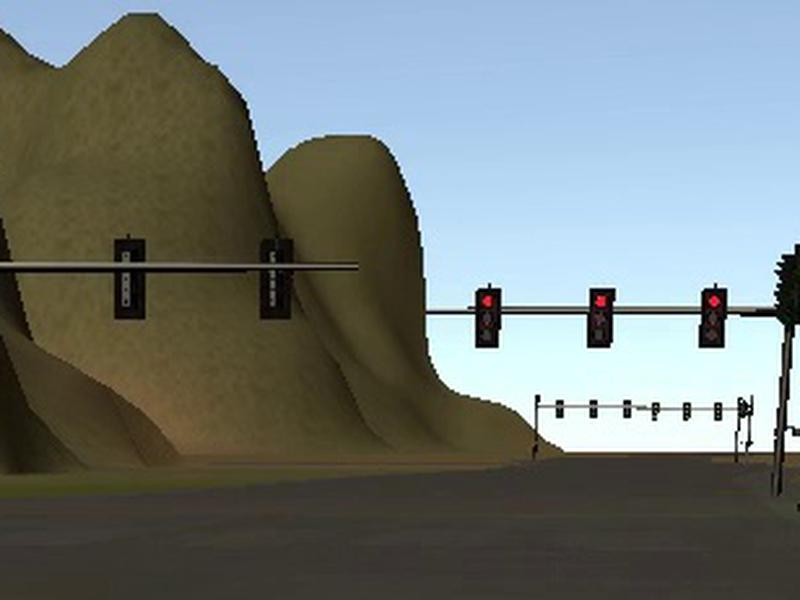Red: (587, 287, 614, 345), (700, 286, 726, 346), (475, 288, 501, 345)
